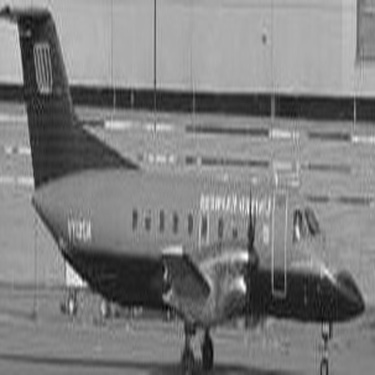airplane: (6, 4, 369, 371)
